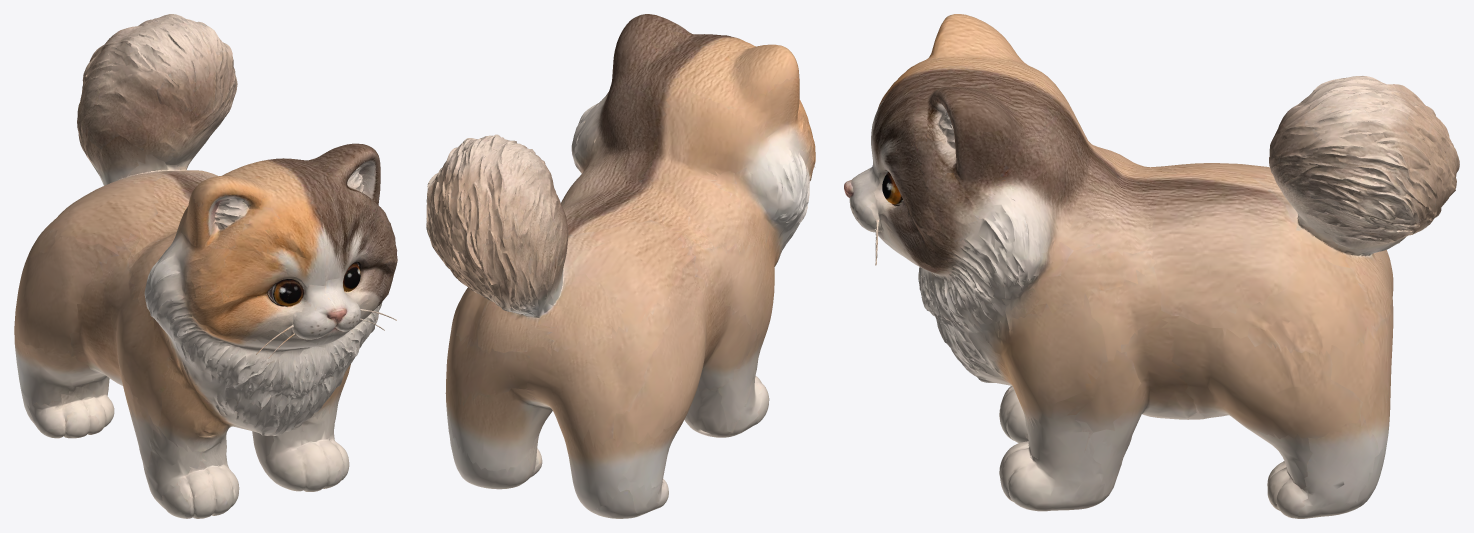
Rendered from meshy-fold.glb.
3 views of the same model, side by side, from view 1: azimuth 30°, elevation 25°; view 2: azimuth 150°, elevation 25°; view 3: azimuth 270°, elevation 25° (orthographic). The views are drawn at different scales.
Visible parts, largest first — view 1: Mesh_0; view 2: Mesh_0; view 3: Mesh_0.
Boxes of the visible parts, <box> form: Mesh_0: <box>14,14,397,518</box>; Mesh_0: <box>426,14,815,518</box>; Mesh_0: <box>844,14,1459,518</box>.
Bounding box in the file's own units: 0.9641 × 1.4 × 1.9.
1 material, 1 textured.
